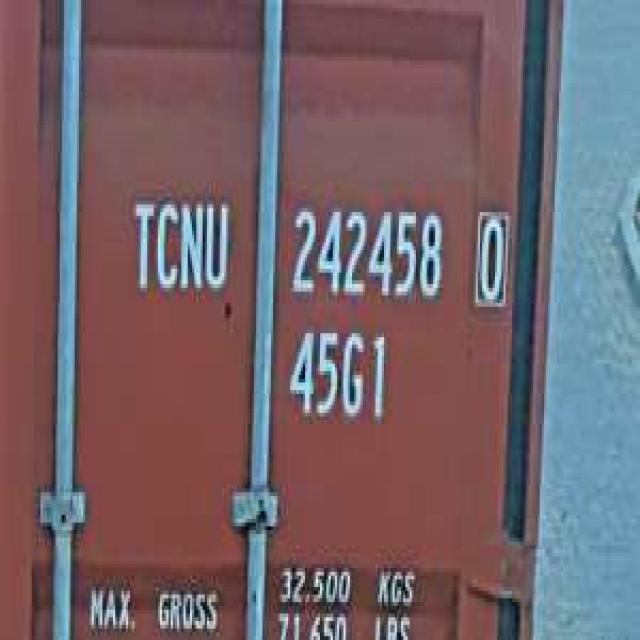dv: (469, 197, 512, 314)
owner: (124, 182, 232, 303)
serial: (284, 193, 448, 307)
size: (284, 318, 392, 432)
